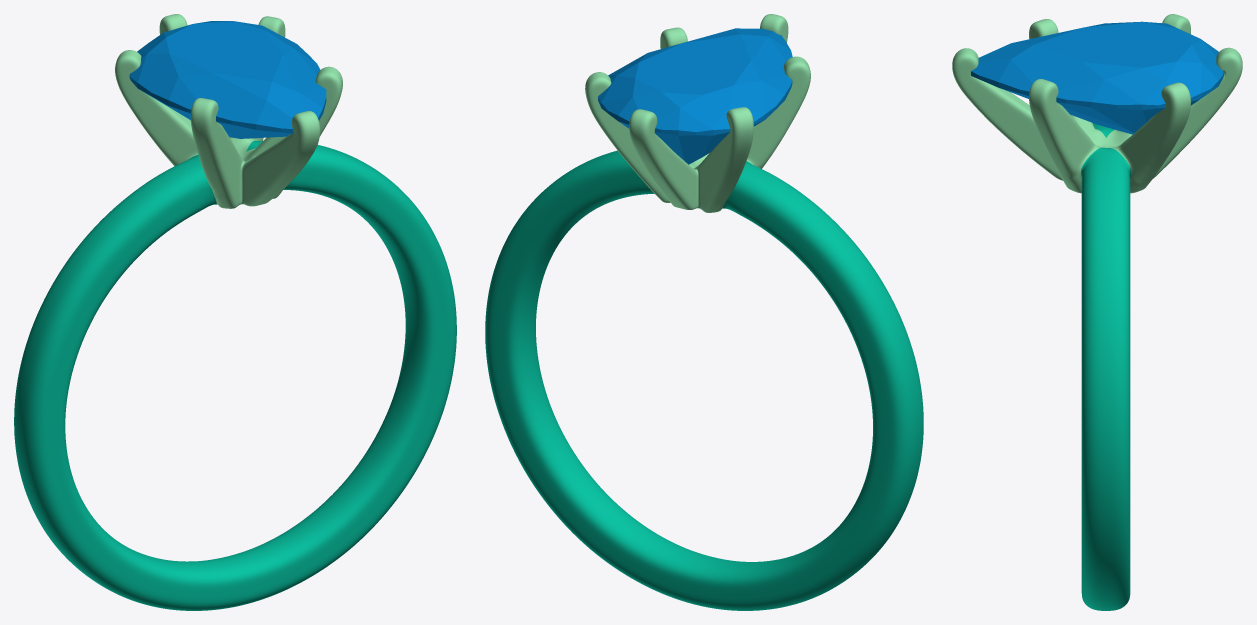
File: BE101_PE_200ct_RENDER.glb
3 views of the same model, side by side, from view 1: azimuth 30°, elevation 25°; view 2: azimuth 150°, elevation 25°; view 3: azimuth 270°, elevation 25° (orthographic).
Parts seen in each view (by area): view 1: Metal 01, CS_Diamond_Pear, Metal 02; view 2: Metal 01, CS_Diamond_Pear, Metal 02; view 3: Metal 01, CS_Diamond_Pear, Metal 02.
Boxes of the visible parts, bbox=[...] form: Metal 01: bbox=[14, 140, 456, 610]; CS_Diamond_Pear: bbox=[129, 21, 326, 138]; Metal 02: bbox=[115, 14, 342, 208]; Metal 01: bbox=[485, 150, 923, 610]; CS_Diamond_Pear: bbox=[598, 28, 792, 164]; Metal 02: bbox=[585, 14, 810, 212]; Metal 01: bbox=[1081, 123, 1130, 610]; CS_Diamond_Pear: bbox=[971, 21, 1224, 134]; Metal 02: bbox=[952, 14, 1242, 193].
Bounding box in the file's own units: 20.38 × 24.63 × 11.94.
